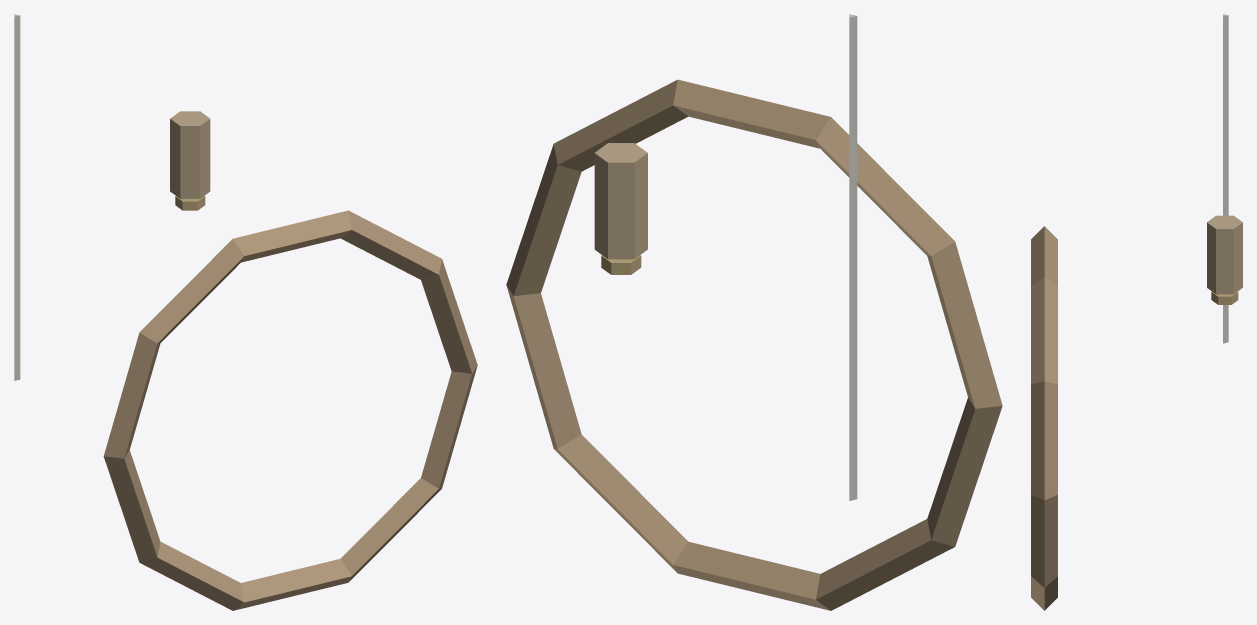
Rendered from shortbow.glb.
The picture shows the model from 3 angles, left to right: view 1: azimuth 30°, elevation 25°; view 2: azimuth 150°, elevation 25°; view 3: azimuth 270°, elevation 25°; orthographic projection. The views are drawn at different scales.
Visible parts, largest first — view 1: shortbow; view 2: shortbow; view 3: shortbow.
Part boxes in pixels (x1,y1,x2,y2): shortbow: [14, 14, 477, 610]; shortbow: [506, 14, 1002, 610]; shortbow: [1031, 14, 1242, 610].
Size of the model in its own units: 0.86 by 1.21 by 0.47.
